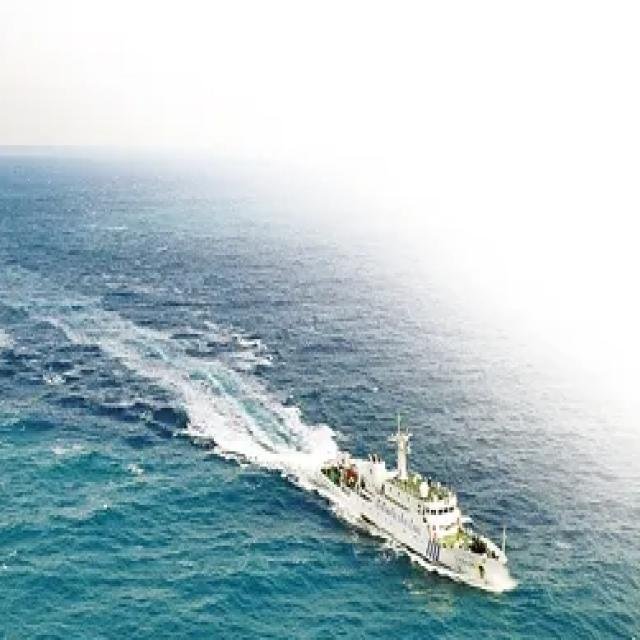passenger ship: (320, 423, 512, 597)
